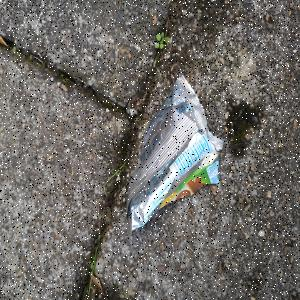Trash: (126, 73, 227, 248)
